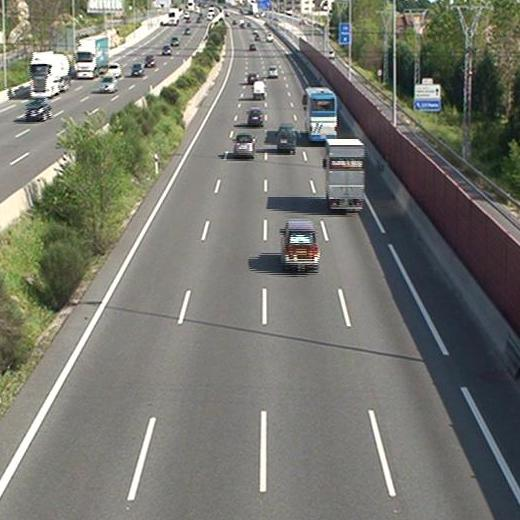bus: (306, 89, 337, 142)
car: (283, 222, 319, 267), (234, 135, 254, 156), (247, 108, 263, 126), (247, 72, 258, 83), (268, 67, 277, 76)
small-truck: (325, 139, 365, 209)
van: (278, 125, 295, 150), (253, 82, 265, 100)
